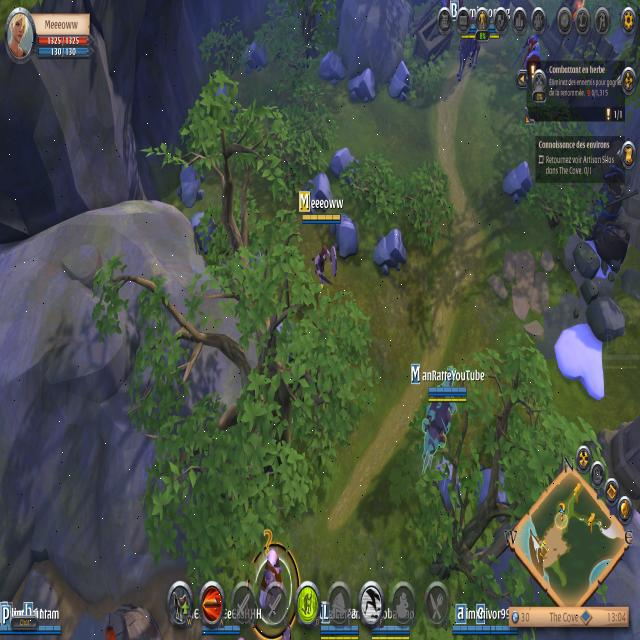stone: (500, 156, 534, 211), (373, 224, 407, 278), (330, 207, 360, 263), (176, 156, 204, 208), (347, 64, 378, 110), (317, 44, 348, 88), (386, 57, 413, 106), (329, 139, 358, 182), (188, 209, 217, 251), (239, 33, 268, 74), (307, 169, 333, 214)
